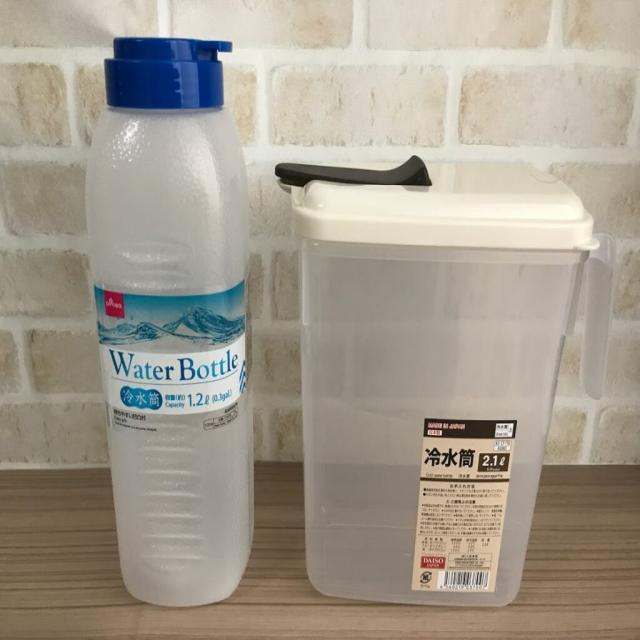plastic: (273, 154, 592, 610), (88, 30, 255, 609)
